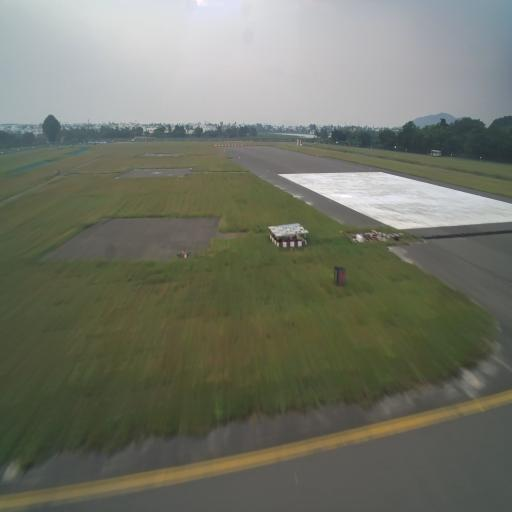on: (266, 168, 268, 172), (317, 155, 319, 159), (215, 144, 217, 147), (218, 144, 220, 146), (228, 145, 230, 147), (238, 145, 240, 147), (241, 145, 243, 147), (239, 156, 240, 160), (370, 166, 371, 170), (222, 144, 223, 147), (225, 144, 226, 147), (224, 149, 225, 152), (214, 145, 215, 147), (232, 145, 233, 147), (235, 145, 236, 147), (244, 145, 246, 146), (248, 144, 249, 146), (286, 149, 287, 151)
